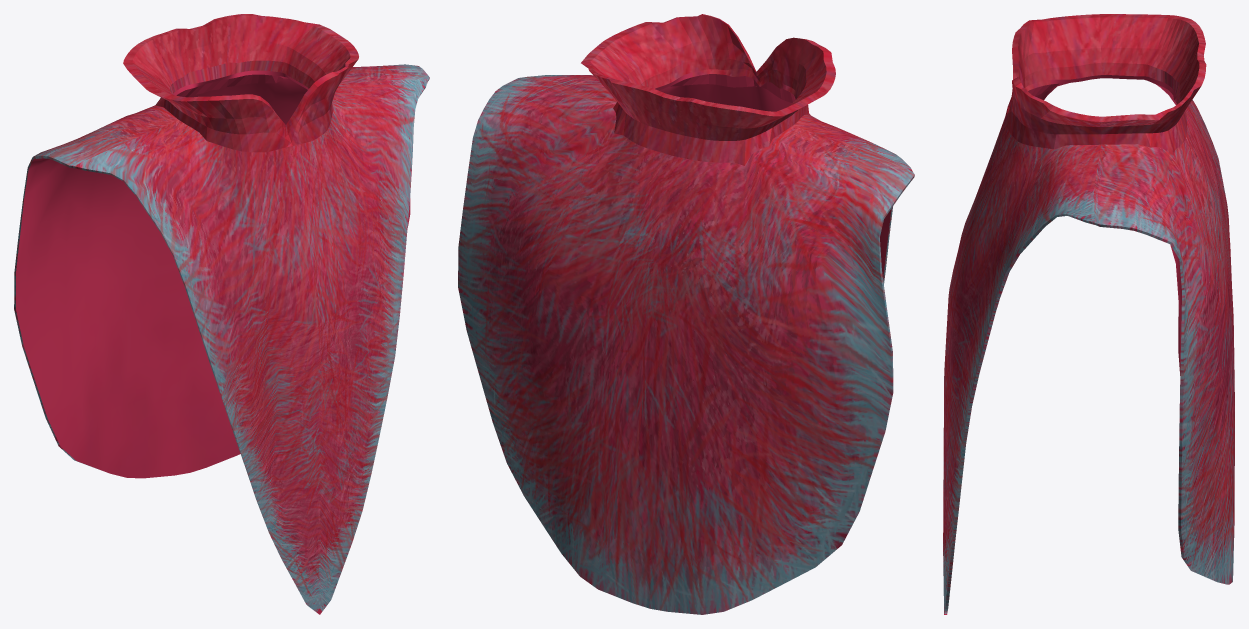
File: ari cloak 1000.FBX
3 renders of one model, left to right at view 1: azimuth 30°, elevation 25°; view 2: azimuth 150°, elevation 25°; view 3: azimuth 270°, elevation 25°, orthographic. The views are drawn at different scales.
Parts seen in each view (by area): view 1: Circle027; view 2: Circle027; view 3: Circle027.
Part boxes in pixels (x1,y1,x2,y2): Circle027: (14,14,429,614); Circle027: (458,14,914,614); Circle027: (943,14,1234,614).
Size of the model in its own units: 42.14 by 51.56 by 24.4.
Materials: 1 (1 with a texture image).
